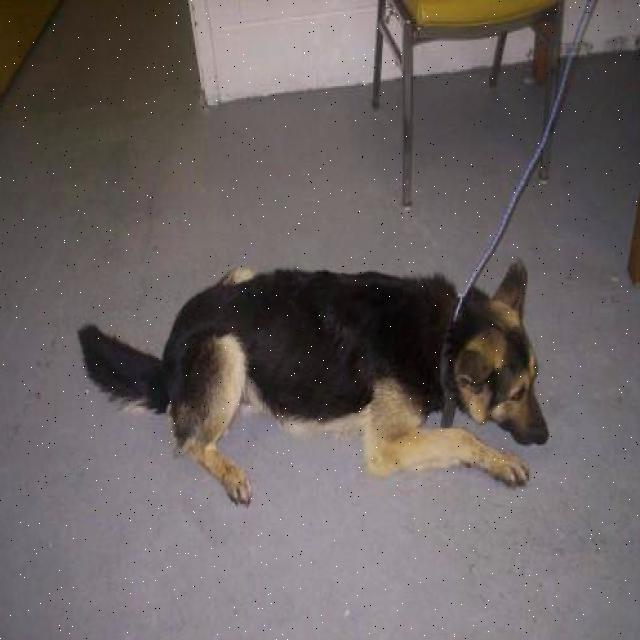Dog: (441, 248, 588, 458)
